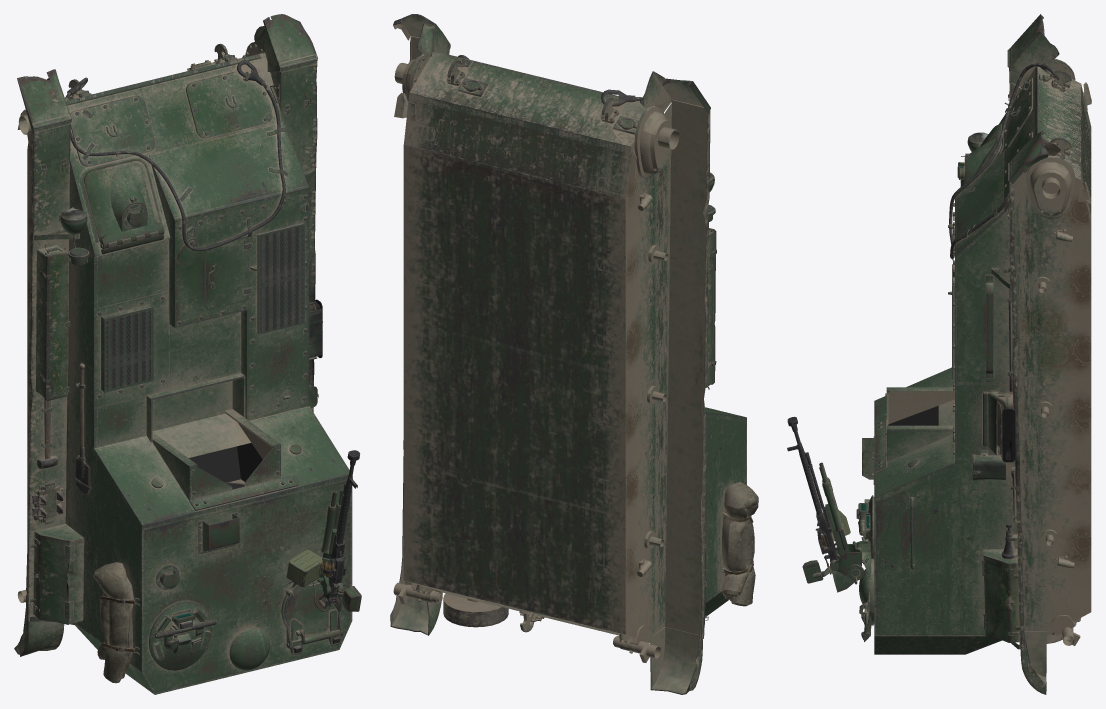
File: Hull.glb
The picture shows the model from 3 angles, left to right: view 1: azimuth 30°, elevation 25°; view 2: azimuth 150°, elevation 25°; view 3: azimuth 270°, elevation 25°; orthographic projection. The views are drawn at different scales.
Visible parts, largest first — view 1: set_0_group_0; view 2: set_0_group_0; view 3: set_0_group_0.
Boxes of the visible parts, left/top/right/bottom form: set_0_group_0: left=14, top=14, right=361, bottom=694; set_0_group_0: left=390, top=14, right=758, bottom=694; set_0_group_0: left=787, top=14, right=1091, bottom=694.
Bounding box in the file's own units: 2.73 × 5.34 × 2.68.
1 material, 1 textured.
